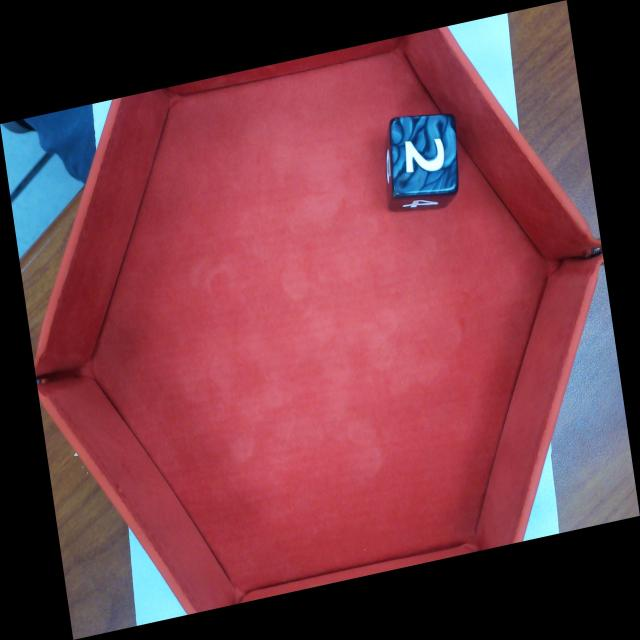dice: (394, 115, 457, 191)
